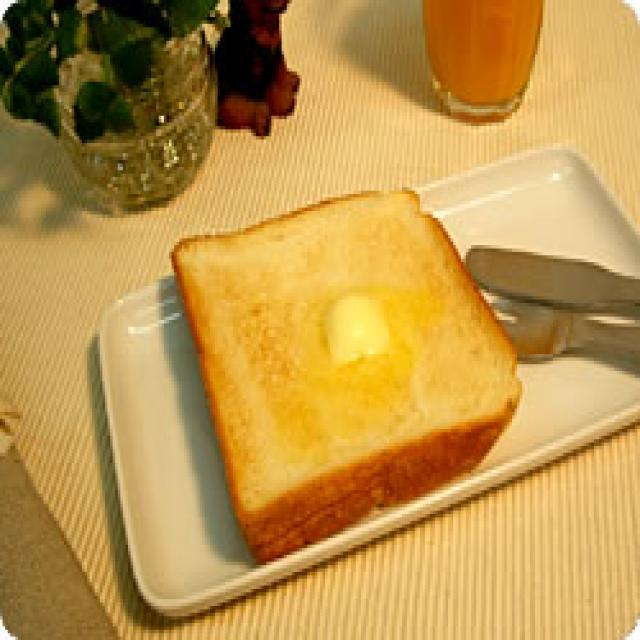面包点心: (169, 170, 525, 562)
